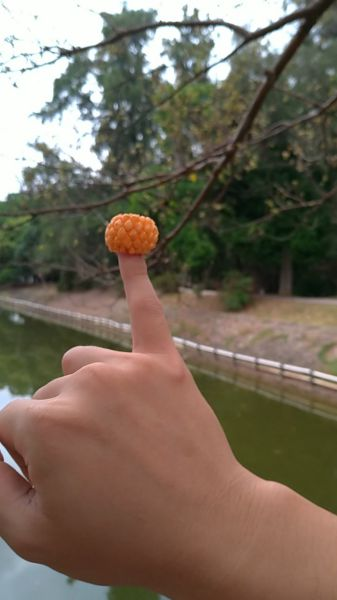eggs: (104, 212, 159, 258)
